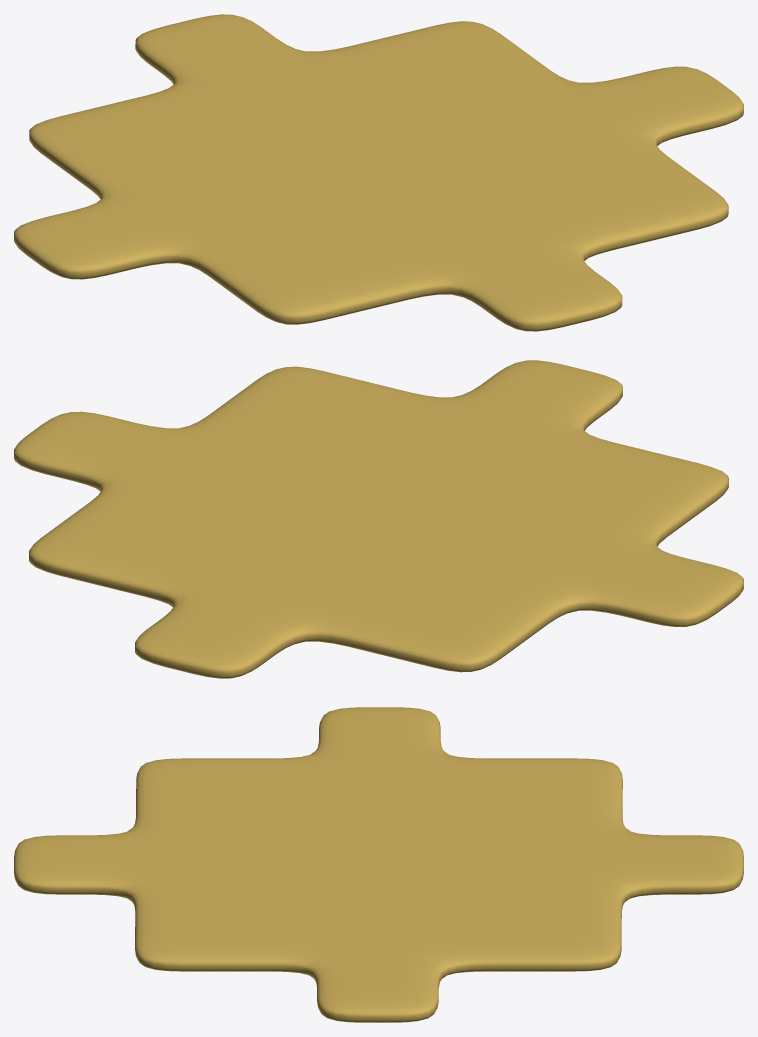
The model's file is GoldenPuzzle-03-MMMM.fbx.
The picture shows the model from 3 angles, top to bottom: view 1: azimuth 30°, elevation 25°; view 2: azimuth 150°, elevation 25°; view 3: azimuth 270°, elevation 25°; orthographic projection. The views are drawn at different scales.
Parts seen in each view (by area): view 1: Puzzle_003; view 2: Puzzle_003; view 3: Puzzle_003.
Part boxes in pixels (<box>): Puzzle_003: <box>14,14,743,331</box>; Puzzle_003: <box>14,360,743,678</box>; Puzzle_003: <box>14,707,743,1022</box>.
Size of the model in its own units: 0.375 by 0.00924 by 0.3762.
